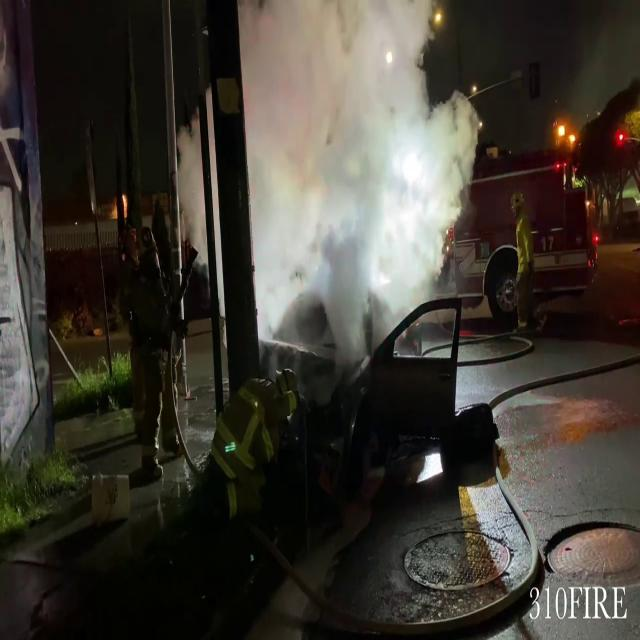Smoke: (244, 0, 479, 365)
